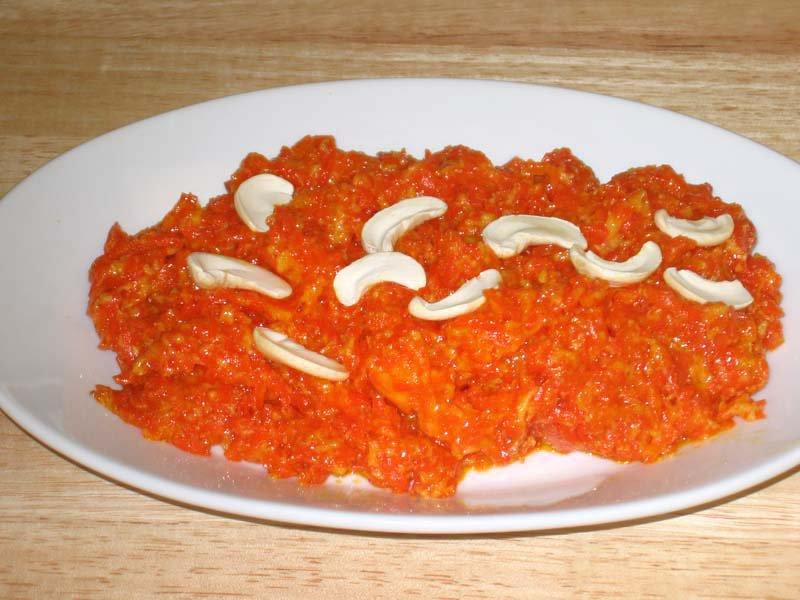Gajar ka halwa: (90, 128, 800, 500)
